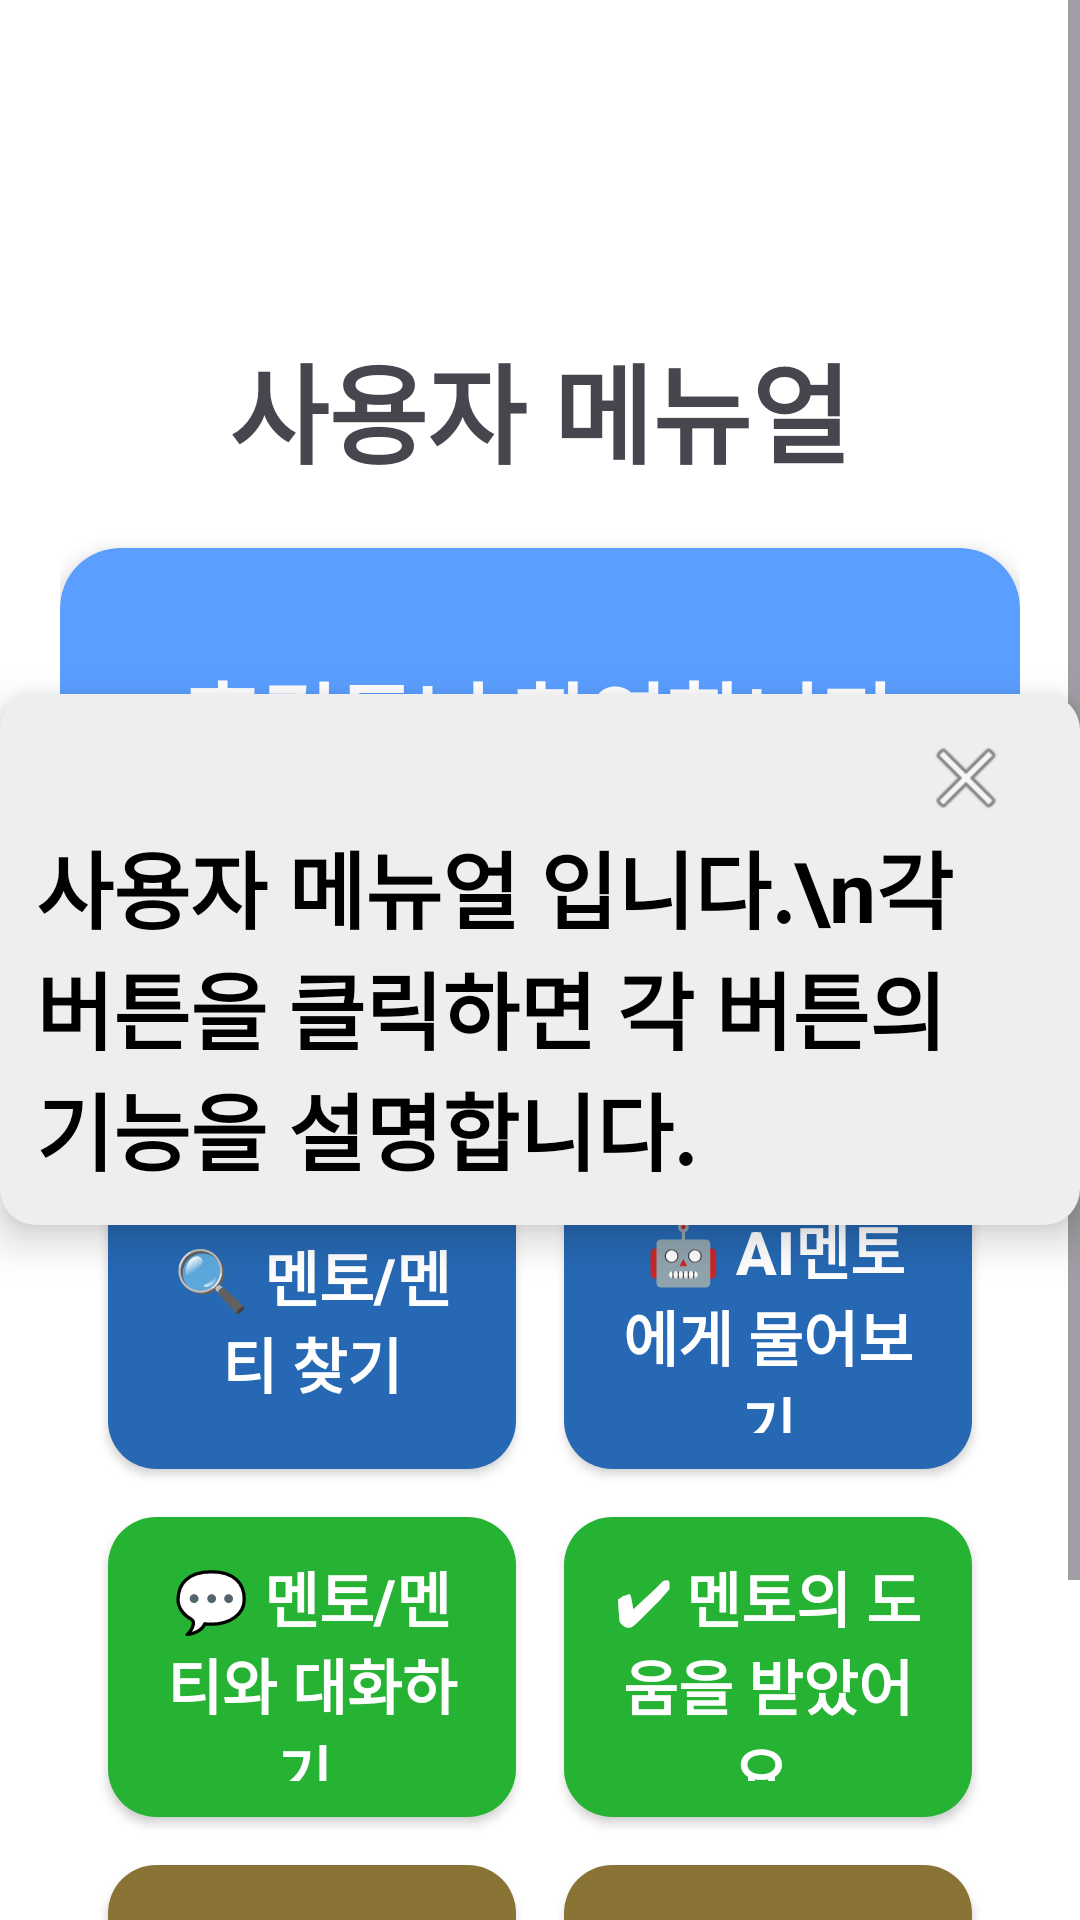

Named icons in this screenshot (1080px x 1920px) and their centers, [x,y]:
말풍선 닫기 버튼: [966,778]
